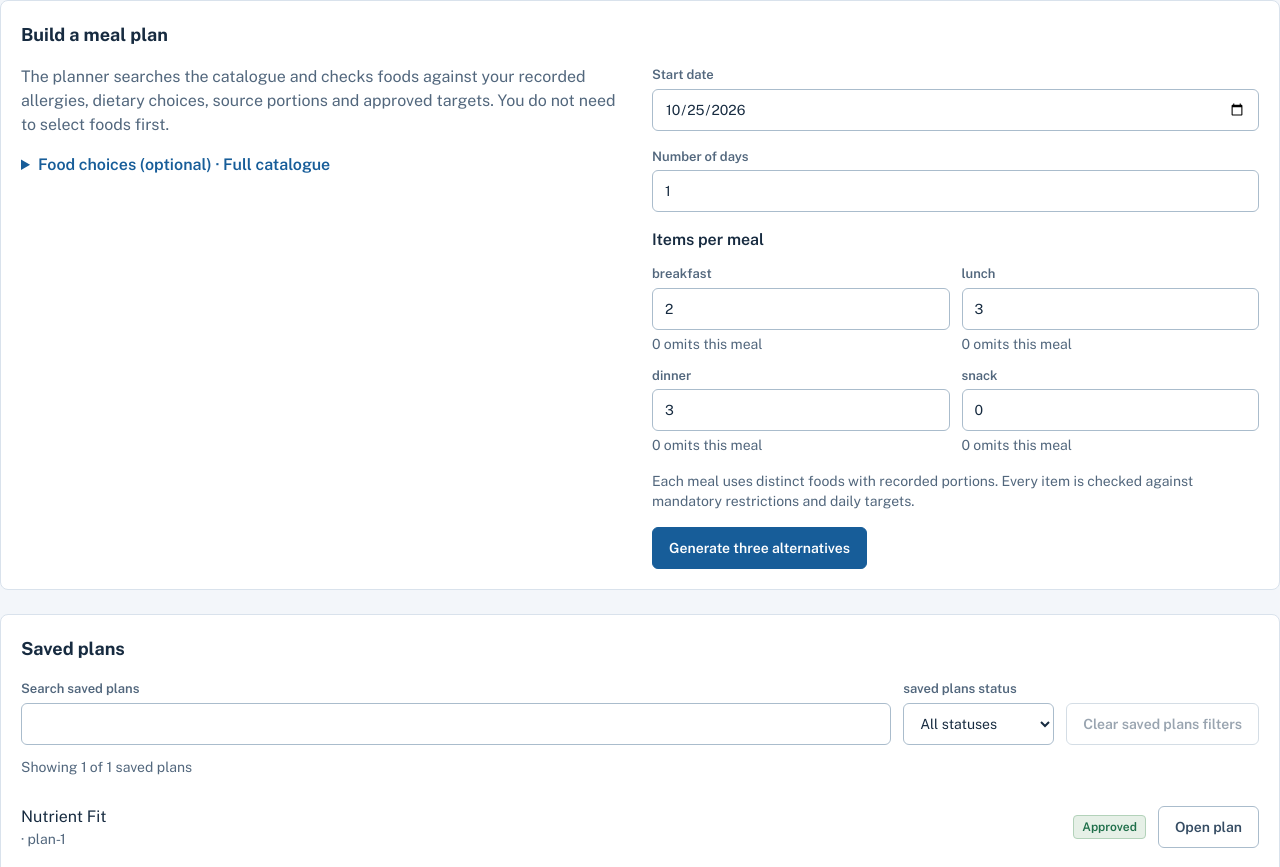
Scenario: plans visibly disclose estimated food composition from stored snapshots
Click the button "Open plan".
click(1208, 826)  # box [1158,806,1259,848]
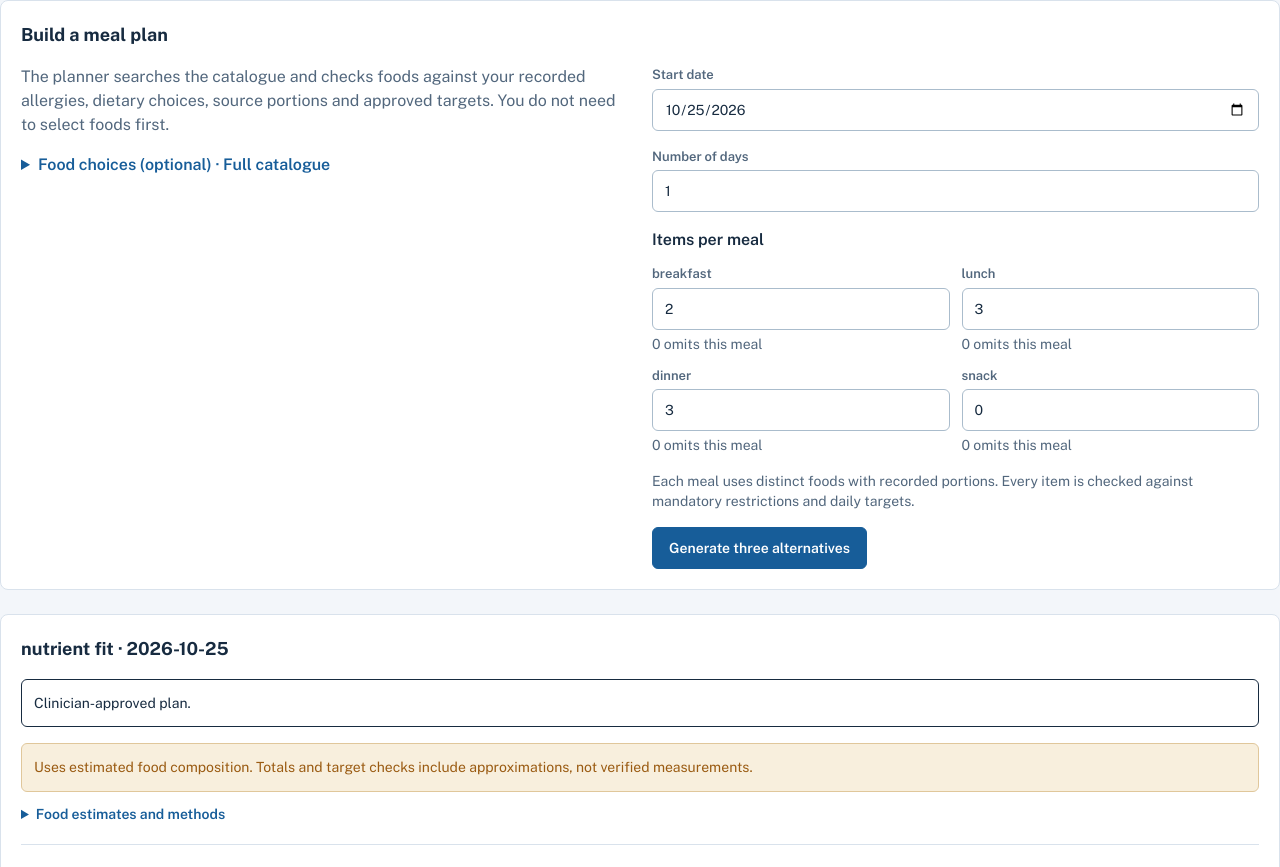
Now the text "Uses estimated food composition" is shown, box [34,759,753,775]
Now the heading "Food estimates and methods" is shown, box [36,806,225,822]
